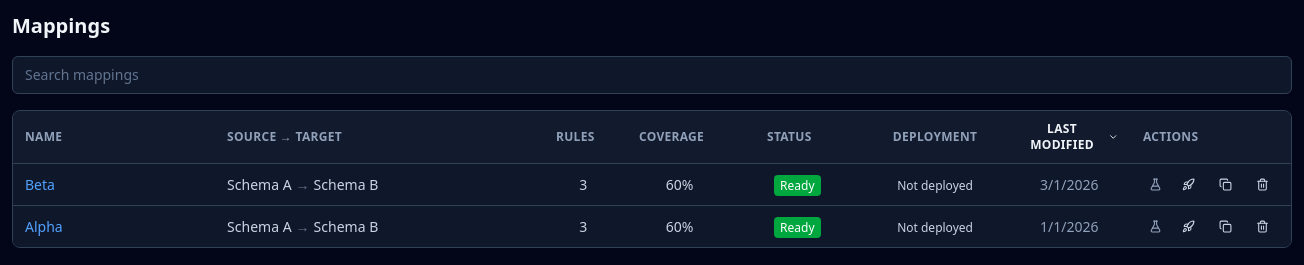
Test: MappingListSection › filters mappings by name search
Type "alp" into the search field with test id "mappings-search-input" at x=652, y=75, box x1=12 y1=56 x2=1292 y2=94
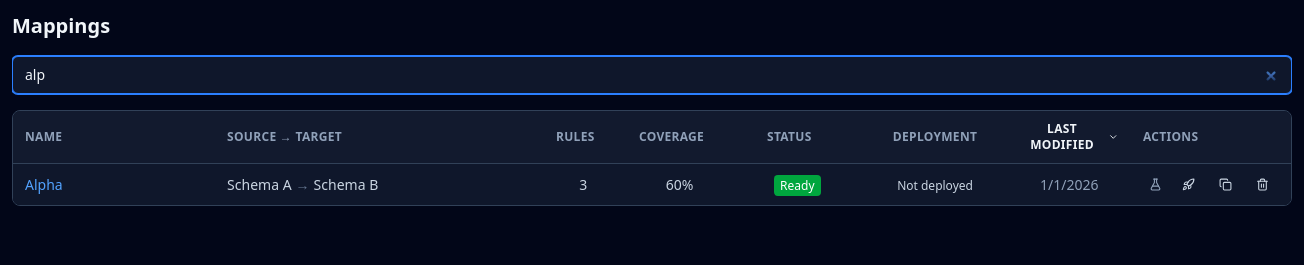
Expected: the link "Alpha" is shown, x1=25 y1=174 x2=63 y2=194
Result: the link "Beta" is gone
